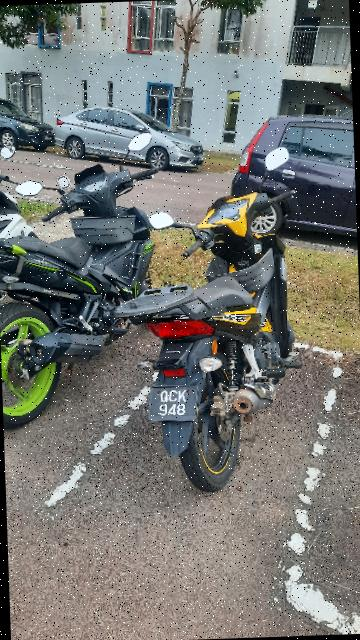License_Plate: (151, 388, 198, 424)
car: (230, 108, 358, 243), (53, 101, 213, 179)
motorcycle: (129, 150, 305, 494), (1, 131, 162, 428)
